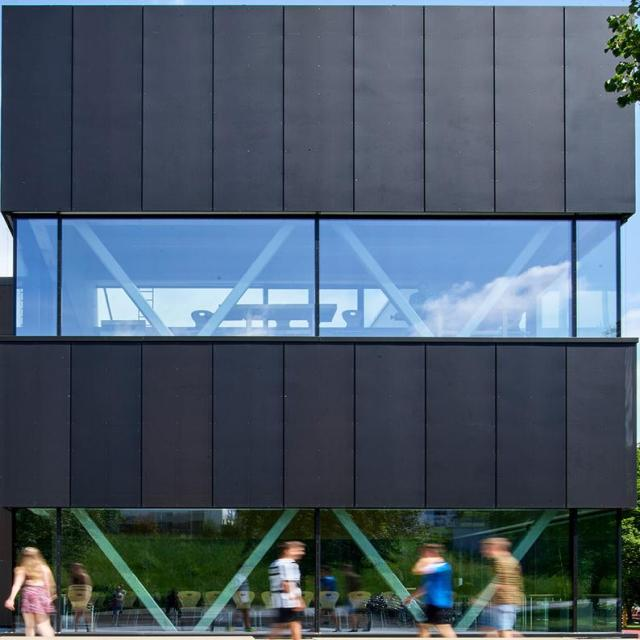windows: (15, 504, 624, 632), (18, 215, 621, 333)
